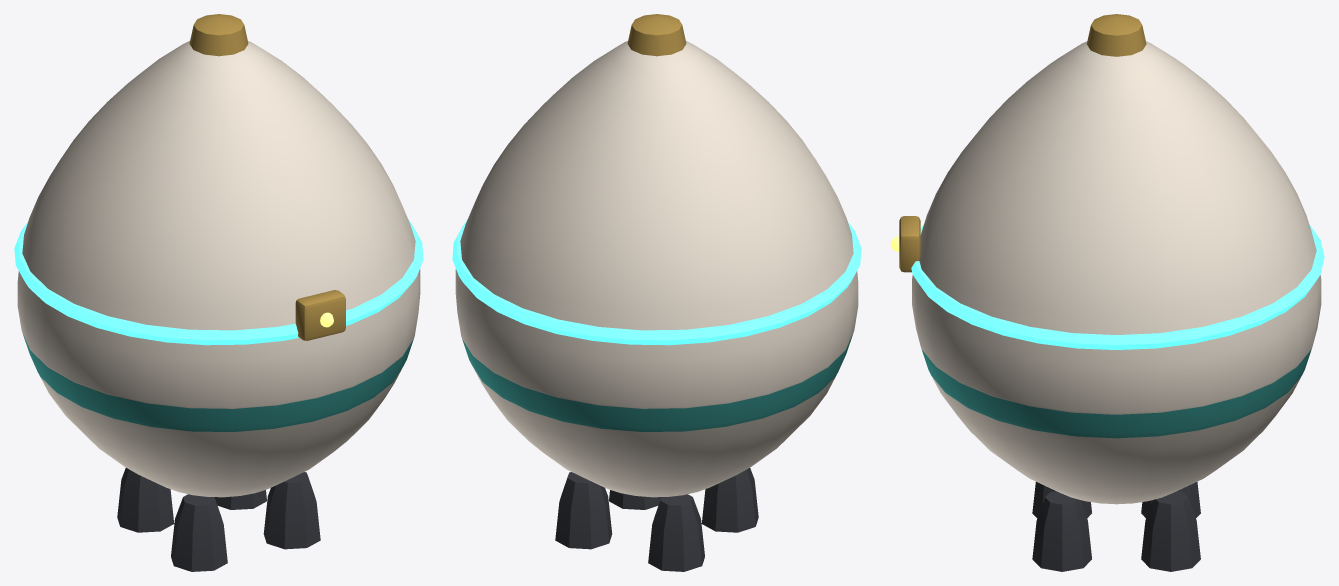
The model's file is deco_cargo_pod_single.fbx.
3 views of the same model, side by side, from view 1: azimuth 30°, elevation 25°; view 2: azimuth 150°, elevation 25°; view 3: azimuth 270°, elevation 25° (orthographic).
Parts seen in each view (by area): view 1: CargoPod_Single_ShellUpper, CargoPod_Single_ShellLower; view 2: CargoPod_Single_ShellUpper, CargoPod_Single_ShellLower; view 3: CargoPod_Single_ShellUpper, CargoPod_Single_ShellLower.
Part boxes in pixels (<box>): CargoPod_Single_ShellUpper: <box>22,14,415,340</box>; CargoPod_Single_ShellLower: <box>14,219,423,571</box>; CargoPod_Single_ShellUpper: <box>460,14,853,330</box>; CargoPod_Single_ShellLower: <box>452,219,861,571</box>; CargoPod_Single_ShellUpper: <box>890,14,1316,334</box>; CargoPod_Single_ShellLower: <box>911,224,1324,571</box>.
Size of the model in its own units: 97.28 by 134 by 102.
